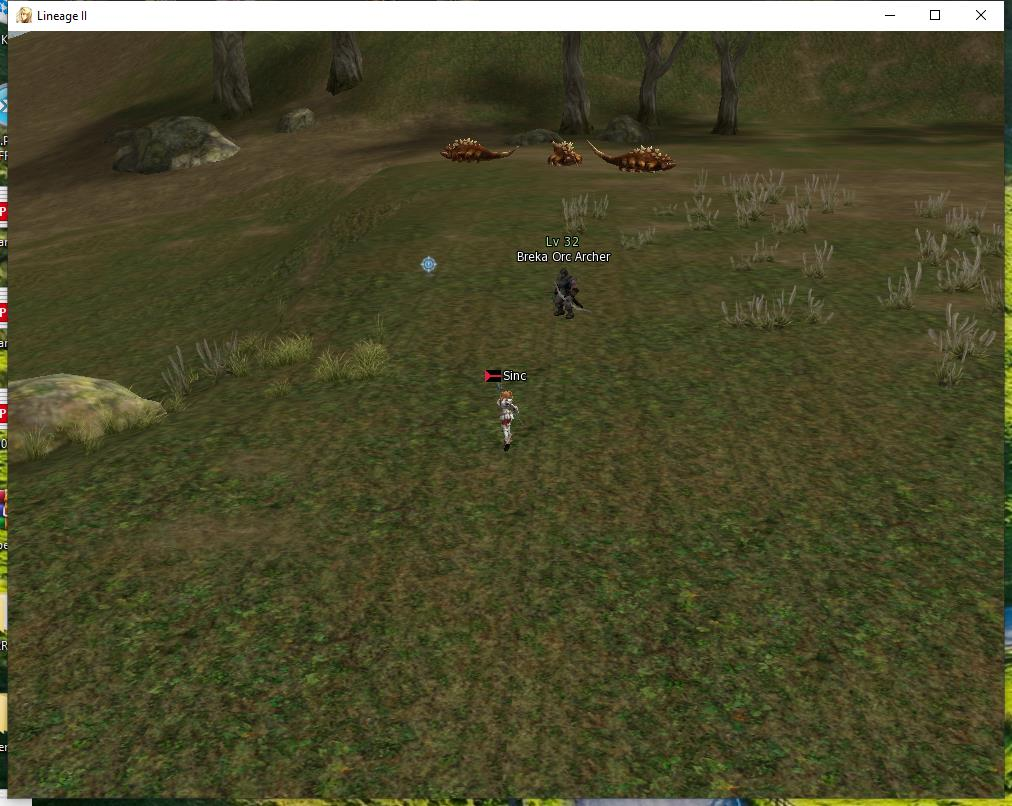monster: (512, 226, 622, 337), (588, 126, 677, 176), (442, 119, 524, 170), (537, 124, 586, 173)
